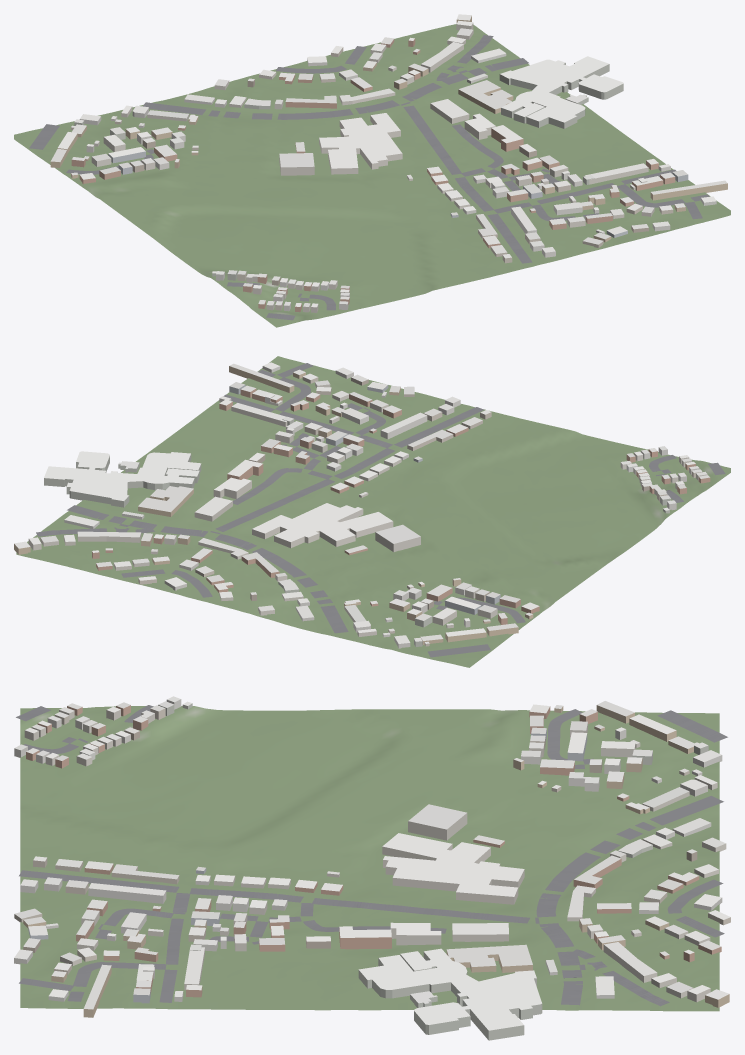
3 views of the same model, one above another, from view 1: azimuth 30°, elevation 25°; view 2: azimuth 150°, elevation 25°; view 3: azimuth 270°, elevation 25° (orthographic). The views are drawn at different scales.
Parts seen in each view (by area): view 1: prim0, prim1, prim2; view 2: prim0, prim1, prim2; view 3: prim0, prim1, prim2.
Boxes of the visible parts, x1,y1,x2,y2 form: prim0: (14,24,730,327); prim1: (50,14,727,312); prim2: (29,35,709,320); prim0: (16,356,730,667); prim1: (14,362,710,648); prim2: (36,363,725,657); prim0: (20,706,719,1011); prim1: (14,696,730,1040); prim2: (16,705,727,1006).
Size of the model in its own units: 580 by 20.35 by 525.
